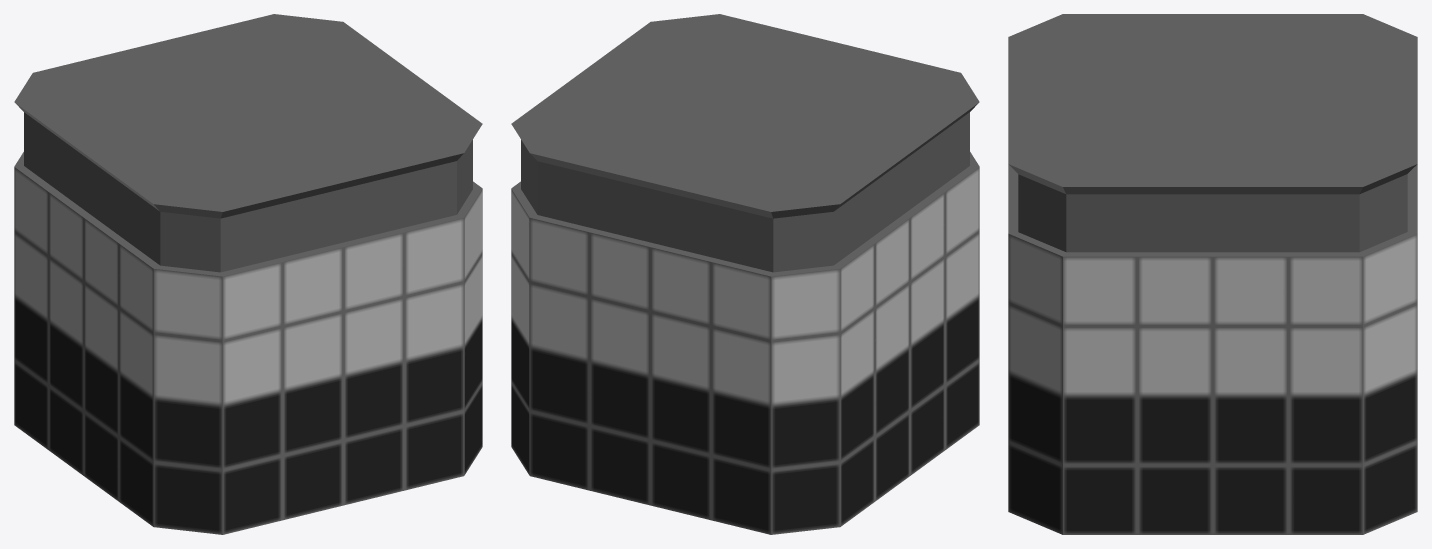
Rendered from SW_ENV_PillarTiledTop_02.fbx.
The picture shows the model from 3 angles, left to right: view 1: azimuth 30°, elevation 25°; view 2: azimuth 150°, elevation 25°; view 3: azimuth 270°, elevation 25°; orthographic projection. The views are drawn at different scales.
Visible parts, largest first — view 1: SW_ENV_PillarTiledTop_02; view 2: SW_ENV_PillarTiledTop_02; view 3: SW_ENV_PillarTiledTop_02.
Boxes of the visible parts, bbox=[...] form: SW_ENV_PillarTiledTop_02: bbox=[14, 14, 482, 534]; SW_ENV_PillarTiledTop_02: bbox=[511, 14, 979, 534]; SW_ENV_PillarTiledTop_02: bbox=[1008, 14, 1417, 534].
Size of the model in its own units: 80 by 75 by 80.
